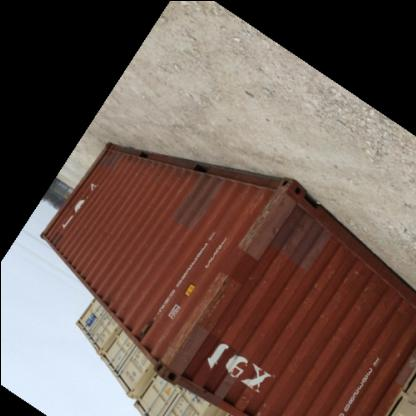Damage: (238, 191, 286, 252), (162, 319, 202, 382), (200, 272, 233, 328), (343, 288, 363, 312)
